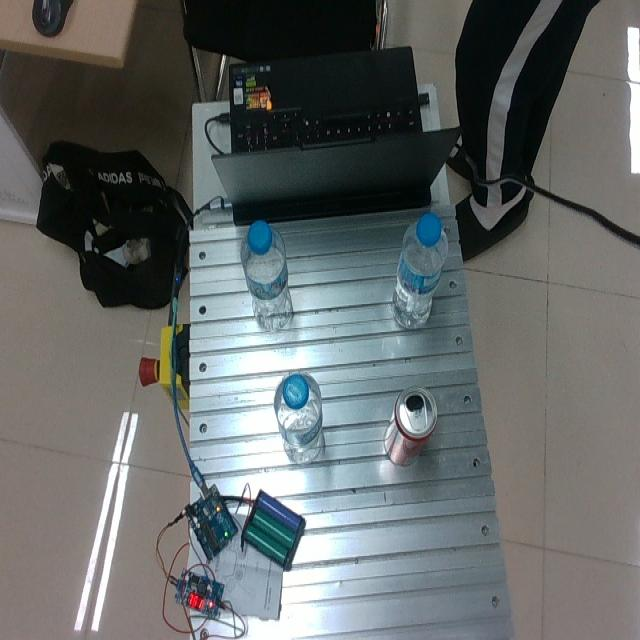coca: (384, 384, 438, 465)
lavie: (391, 213, 447, 329), (241, 220, 292, 332), (274, 370, 323, 462)
